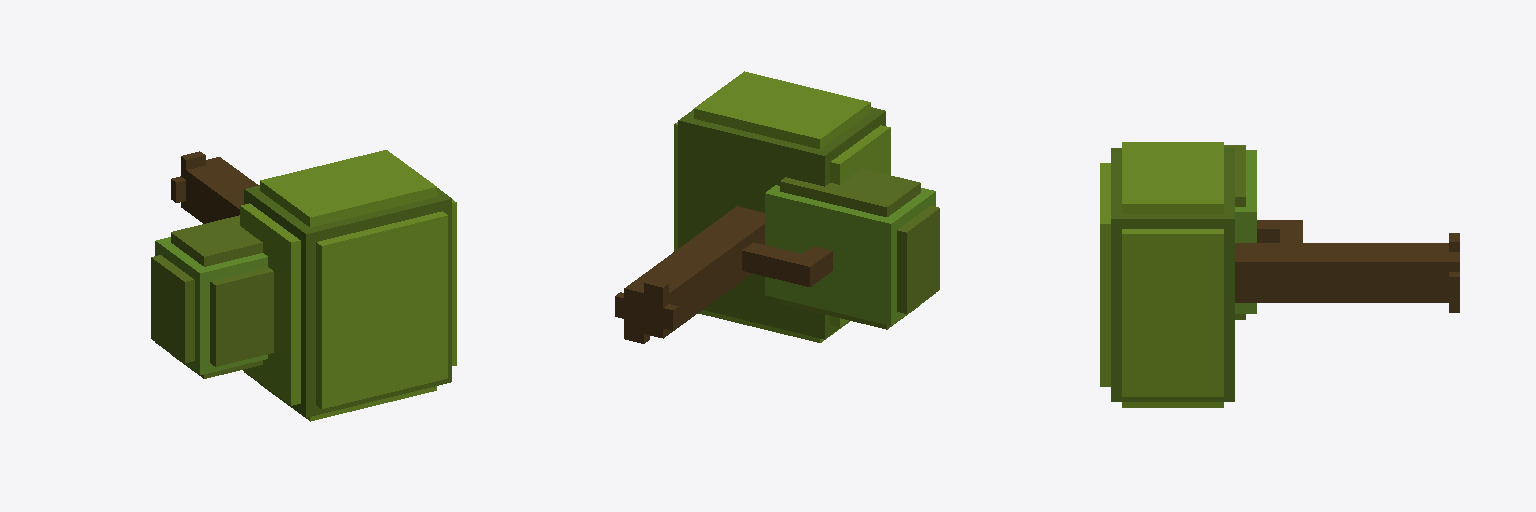
The picture shows the model from 3 angles: view 1: azimuth 30°, elevation 25°; view 2: azimuth 150°, elevation 25°; view 3: azimuth 270°, elevation 25°; orthographic projection.
Visible parts, largest first — view 1: VoxelMesh0; view 2: VoxelMesh0; view 3: VoxelMesh0.
Boxes of the visible parts, <box> form: VoxelMesh0: <box>151,150,456,421</box>; VoxelMesh0: <box>615,71,939,343</box>; VoxelMesh0: <box>1100,142,1459,407</box>.
Bounding box in the file's own units: 6.25 × 5 × 8.
1 materials, 1 textured.